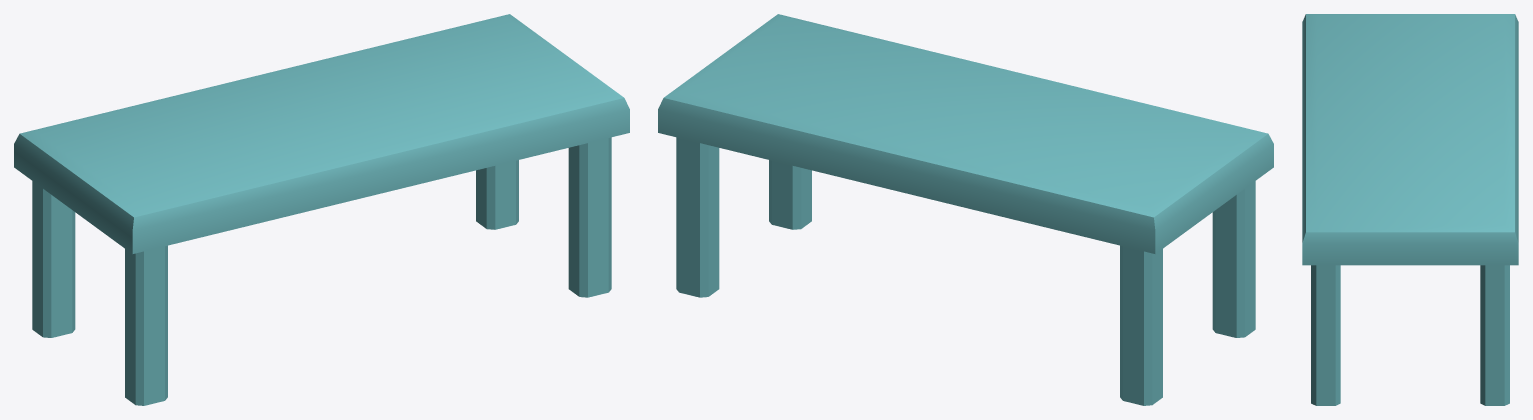
The model's file is SM_Storage_TableRect.fbx.
3 renders of one model, left to right at view 1: azimuth 30°, elevation 25°; view 2: azimuth 150°, elevation 25°; view 3: azimuth 270°, elevation 25°, orthographic. The views are drawn at different scales.
Visible parts, largest first — view 1: SM_Storage_TableRect; view 2: SM_Storage_TableRect; view 3: SM_Storage_TableRect.
Boxes of the visible parts, box(x1,y1,x2,y2) form: SM_Storage_TableRect: box(14, 14, 629, 405); SM_Storage_TableRect: box(658, 14, 1273, 405); SM_Storage_TableRect: box(1302, 14, 1518, 405).
Bounding box in the file's own units: 331 × 125 × 137.
